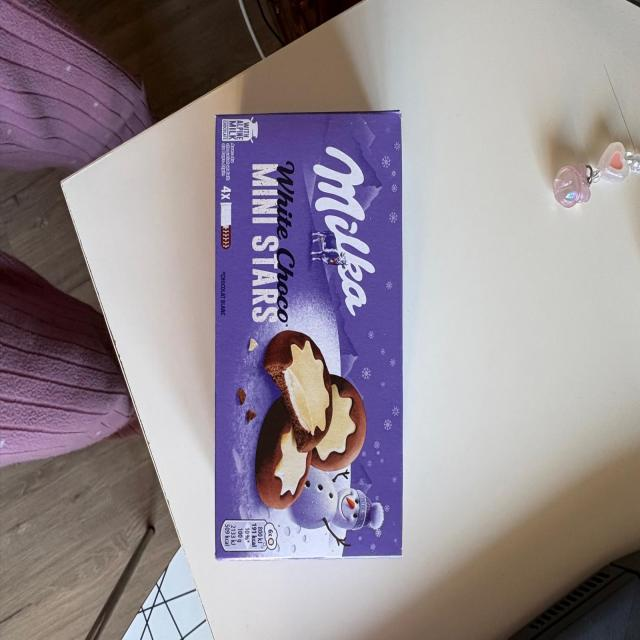good_package: (216, 109, 402, 561)
